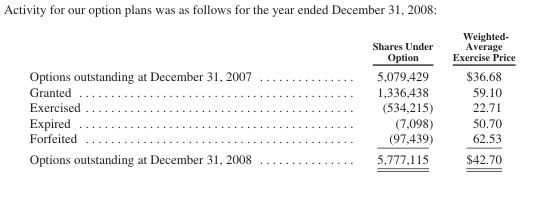table: (28, 29, 514, 165)
table column: (28, 29, 311, 165), (311, 29, 442, 165), (442, 29, 514, 165)
table column header: (28, 29, 514, 65)
table row: (28, 29, 514, 65), (28, 65, 514, 83), (28, 130, 514, 148), (28, 148, 514, 165), (28, 83, 514, 99), (28, 114, 514, 130), (28, 99, 514, 114)
